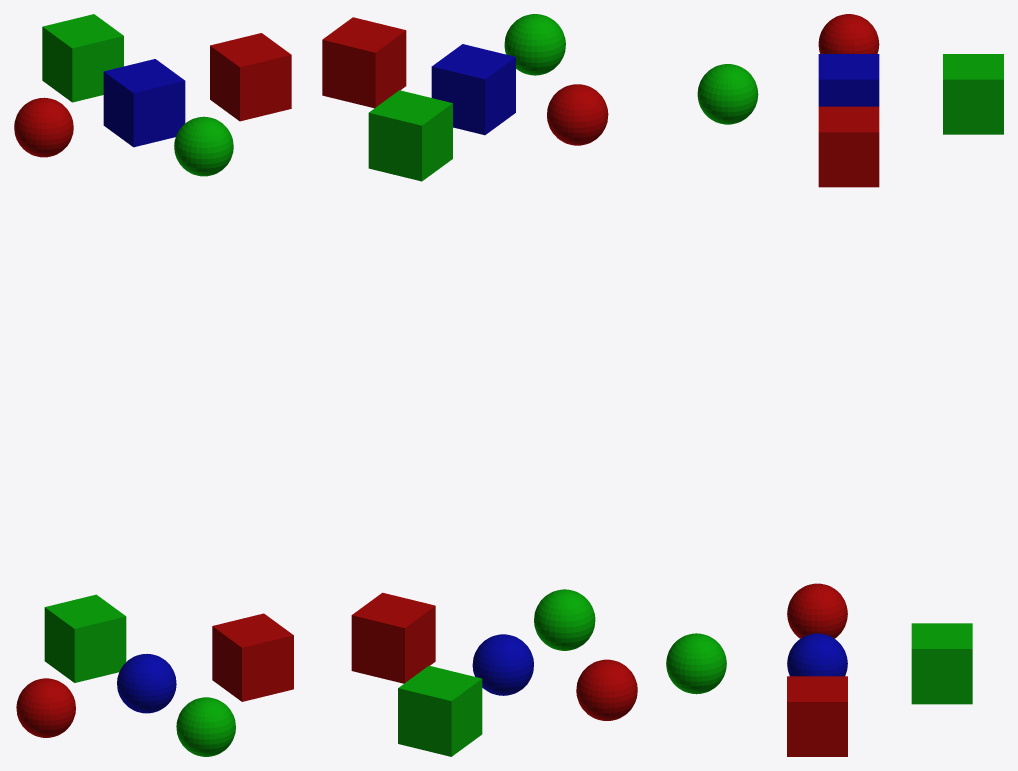
Rendered from alignment2.obj.
3 renders of one model, left to right at view 1: azimuth 30°, elevation 25°; view 2: azimuth 150°, elevation 25°; view 3: azimuth 270°, elevation 25°, orthographic. The views are drawn at different scales.
Visible parts, largest first — view 1: Cube.002, Cube.001, Cube.004_Cube.006, Cube.005_Cube.007, Cube.003_Cube.005, Sphere.002, Sphere.001, Sphere.003, Sphere.004, Sphere; view 2: Cube.003_Cube.005, Cube.002, Cube.001, Cube.004_Cube.006, Cube.005_Cube.007, Sphere.001, Sphere, Sphere.003, Sphere.004, Sphere.002; view 3: Cube.002, Cube.004_Cube.006, Cube.003_Cube.005, Cube.001, Cube.005_Cube.007, Sphere.001, Sphere.002, Sphere, Sphere.004, Sphere.003.
Part boxes in pixels (left/top/right/bottom): Cube.002: left=44, top=594, right=126, bottom=682; Cube.001: left=212, top=613, right=293, bottom=701; Cube.004_Cube.006: left=210, top=33, right=291, bottom=121; Cube.005_Cube.007: left=103, top=59, right=185, bottom=147; Cube.003_Cube.005: left=42, top=14, right=123, bottom=102; Sphere.002: left=174, top=116, right=233, bottom=176; Sphere.001: left=176, top=697, right=235, bottom=756; Sphere.003: left=14, top=97, right=73, bottom=157; Sphere.004: left=117, top=653, right=176, bottom=713; Sphere: left=16, top=678, right=75, bottom=737; Cube.003_Cube.005: left=368, top=90, right=452, bottom=181; Cube.002: left=398, top=665, right=482, bottom=756; Cube.001: left=351, top=592, right=435, bottom=683; Cube.004_Cube.006: left=322, top=17, right=406, bottom=108; Cube.005_Cube.007: left=431, top=44, right=515, bottom=135; Sphere.001: left=534, top=589, right=595, bottom=650; Sphere: left=576, top=659, right=637, bottom=720; Sphere.003: left=547, top=84, right=608, bottom=145; Sphere.004: left=472, top=634, right=533, bottom=695; Sphere.002: left=504, top=14, right=565, bottom=75; Cube.002: left=911, top=623, right=972, bottom=704; Cube.004_Cube.006: left=818, top=106, right=879, bottom=187; Cube.003_Cube.005: left=943, top=54, right=1003, bottom=134; Cube.001: left=787, top=676, right=847, bottom=756; Cube.005_Cube.007: left=818, top=54, right=879, bottom=106; Sphere.001: left=666, top=633, right=726, bottom=694; Sphere.002: left=697, top=64, right=758, bottom=124; Sphere: left=787, top=583, right=847, bottom=638; Sphere.004: left=787, top=633, right=847, bottom=676; Sphere.003: left=818, top=14, right=879, bottom=53.
Bounding box in the file's own units: 10.5 × 22.91 × 11.11.
